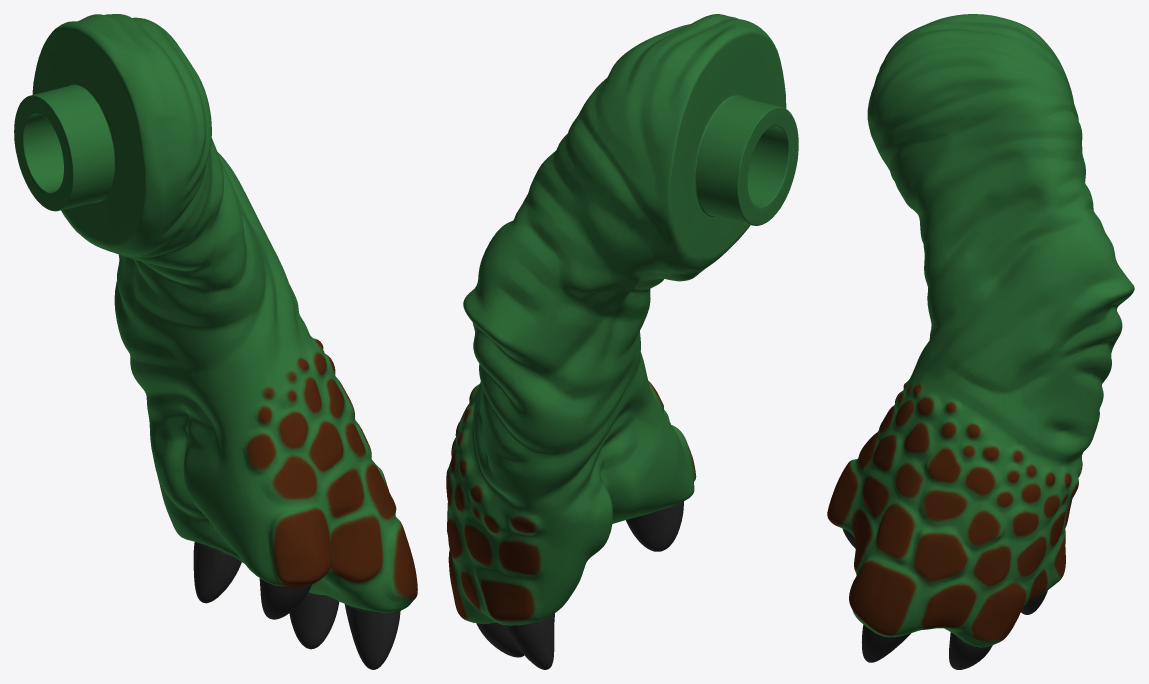
File: Bras_Tortue_lft.glb
The picture shows the model from 3 angles, left to right: view 1: azimuth 30°, elevation 25°; view 2: azimuth 150°, elevation 25°; view 3: azimuth 270°, elevation 25°; orthographic projection. The views are drawn at different scales.
Parts seen in each view (by area): view 1: Bras_turle_lft; view 2: Bras_turle_lft; view 3: Bras_turle_lft.
Part boxes in pixels (left/top/right/bottom): Bras_turle_lft: left=14, top=14, right=417, bottom=669; Bras_turle_lft: left=446, top=14, right=798, bottom=669; Bras_turle_lft: left=827, top=14, right=1134, bottom=669.
Size of the model in its own units: 2.67 by 5.26 by 2.58.
